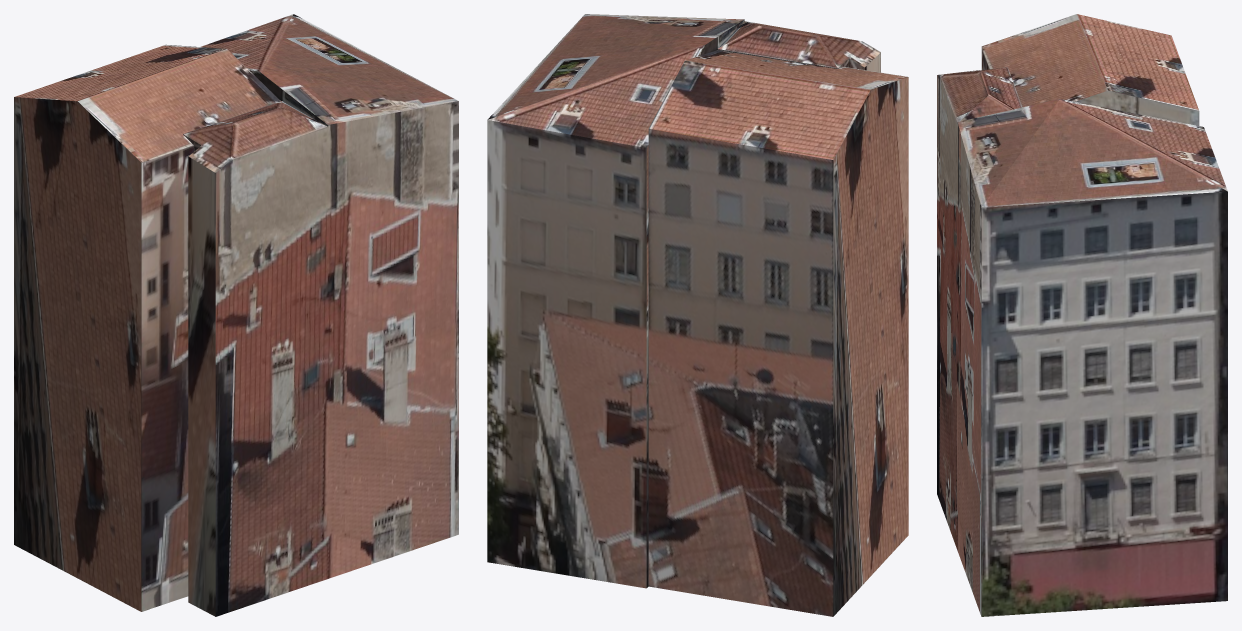
3 views of the same model, side by side, from view 1: azimuth 30°, elevation 25°; view 2: azimuth 150°, elevation 25°; view 3: azimuth 270°, elevation 25° (orthographic). The views are drawn at different scales.
Visible parts, largest first — view 1: Z_UP; view 2: Z_UP; view 3: Z_UP.
Part boxes in pixels (bbox=[...]): Z_UP: bbox=[14, 14, 458, 616]; Z_UP: bbox=[487, 14, 908, 616]; Z_UP: bbox=[937, 14, 1227, 616].
Bounding box in the file's own units: 20.68 × 27.4 × 16.04.
Materials: 2 (1 with a texture image).
